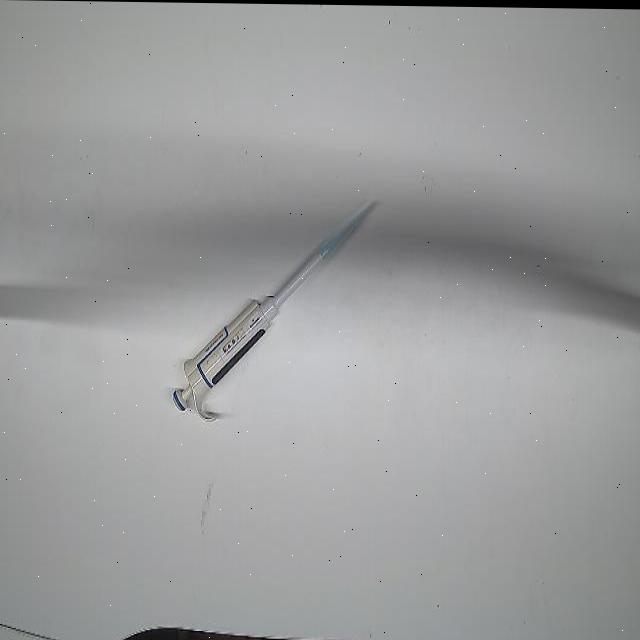Single Channel Pipettor: (172, 225, 347, 425)
